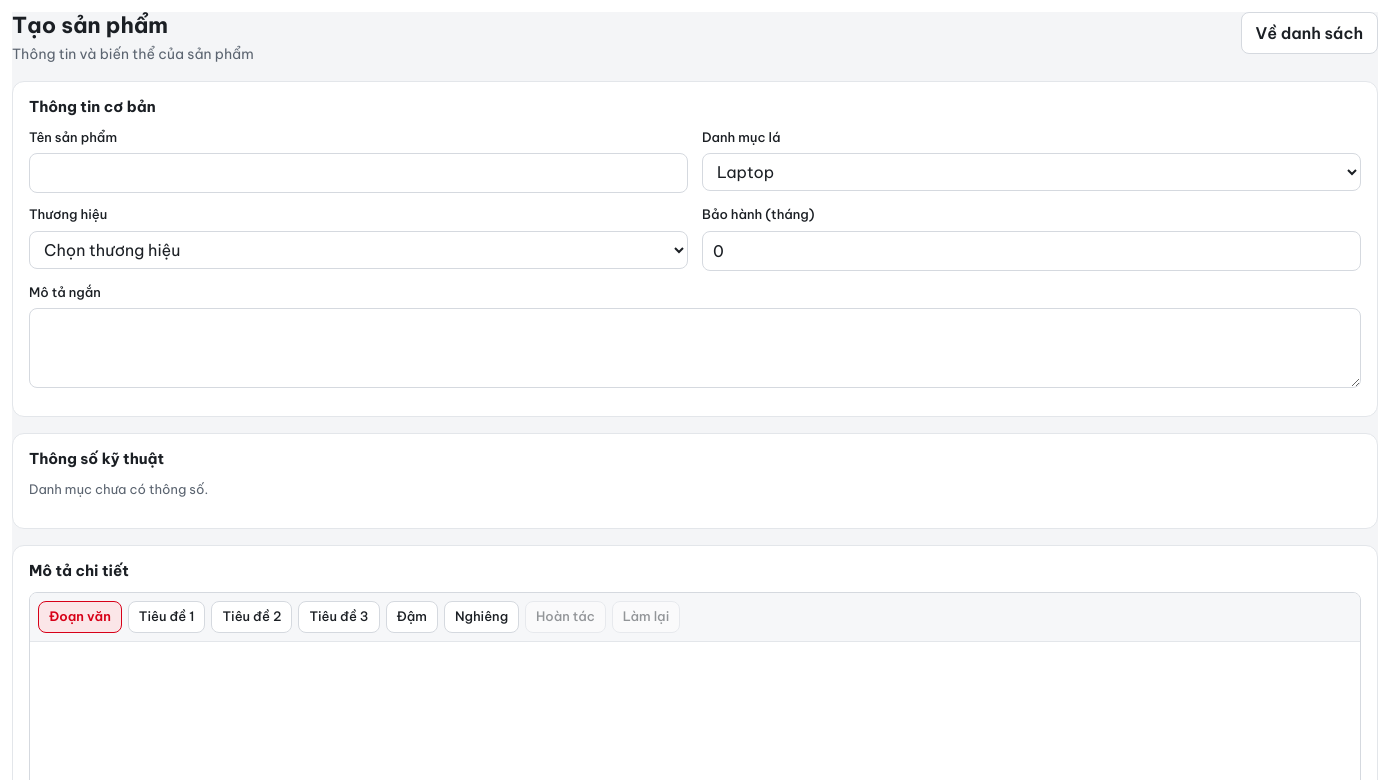
it: ProductFormView › đổi danh mục thì thay ô thông số và gộp thuộc tính cha
Select "Laptop" in the dropdown named "categoryId". click: (1032, 172)
box: [702,153,1361,191]
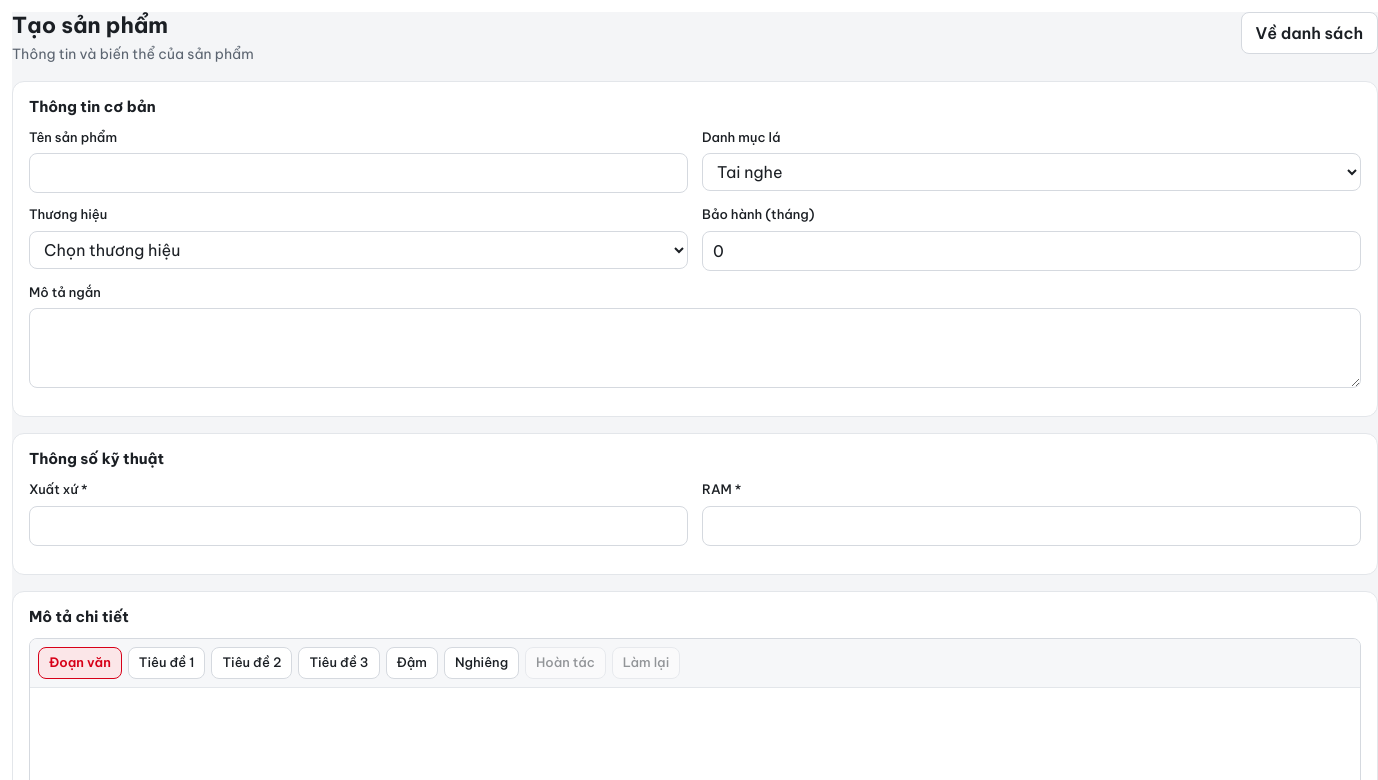
Check: the field named "spec-origin" is shown, box [29,506,688,546]
Check: the number field named "spec-ram" is shown, box [702,506,1361,546]
Select "Tai nghe" in the dropdown named "categoryId". click: (1032, 172)
box: [702,153,1361,191]
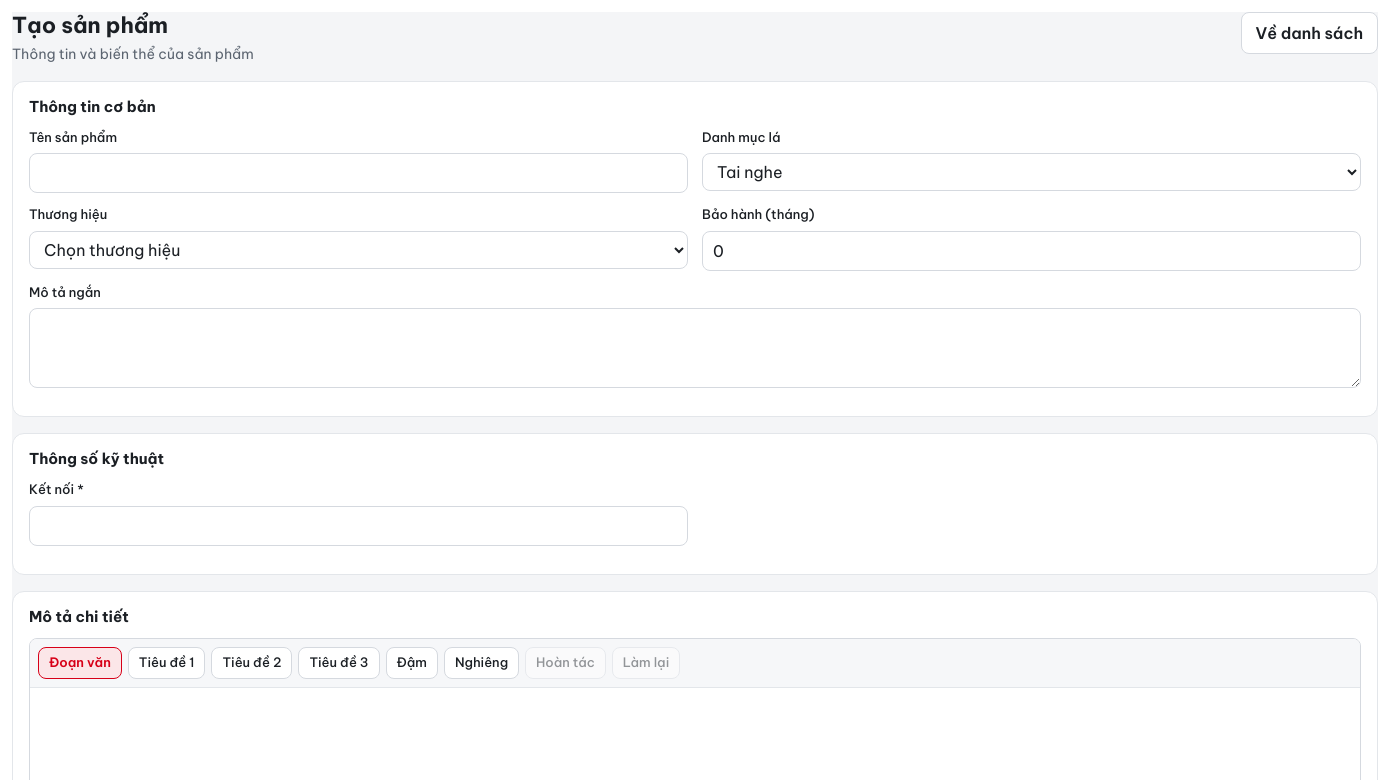
Check: the field named "spec-connection" is shown, box [29,506,688,546]
Check: the label named "spec-origin" is gone
